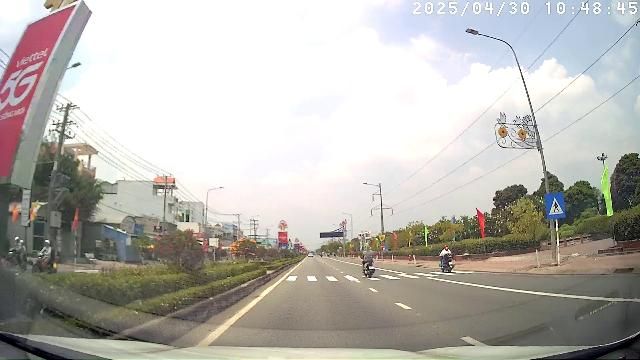423a-duong-nguoi-di-bo-sang-ngang-1: (545, 193, 565, 218)
